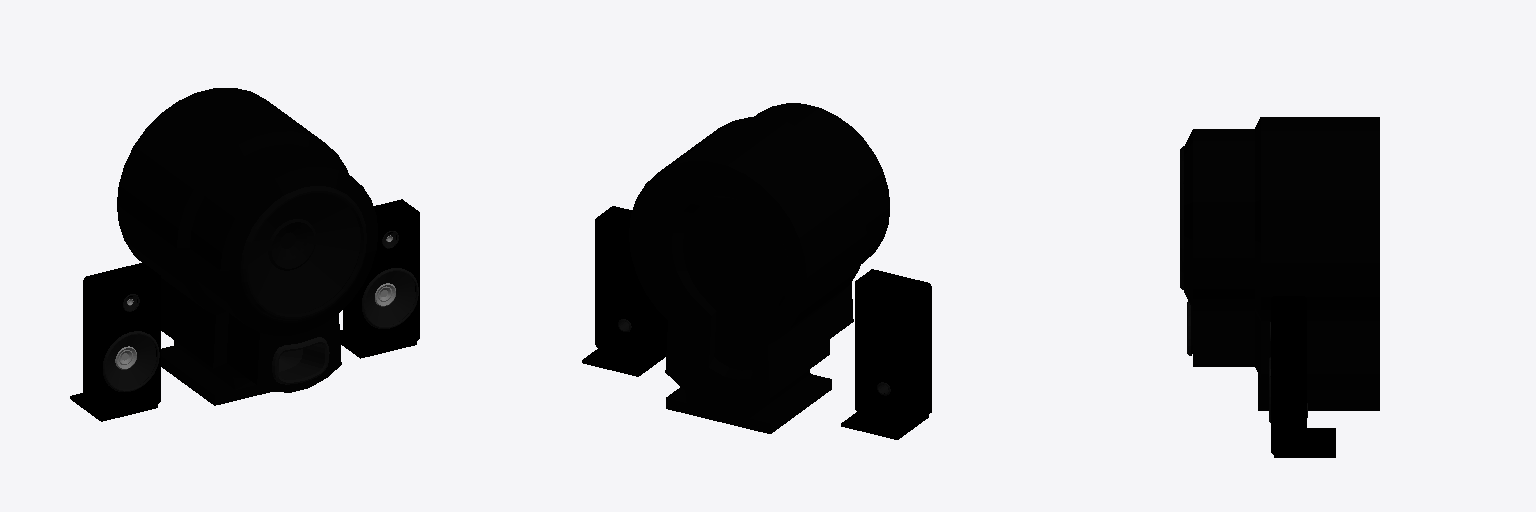
The model's file is Speaker.obj.
The picture shows the model from 3 angles: view 1: azimuth 30°, elevation 25°; view 2: azimuth 150°, elevation 25°; view 3: azimuth 270°, elevation 25°; orthographic projection.
Parts seen in each view (by area): view 1: Mesh (2), Mesh (3); view 2: Mesh (2), Mesh (3); view 3: Mesh (2), Mesh (3).
Boxes of the visible parts, box(x1,y1,x2,y2) form: Mesh (2): box(117, 88, 377, 405); Mesh (3): box(70, 199, 419, 421); Mesh (2): box(629, 103, 889, 433); Mesh (3): box(582, 206, 931, 439); Mesh (2): box(1180, 117, 1379, 410); Mesh (3): box(1269, 296, 1335, 457).
Size of the model in its own units: 3.72 by 2.86 by 2.01.